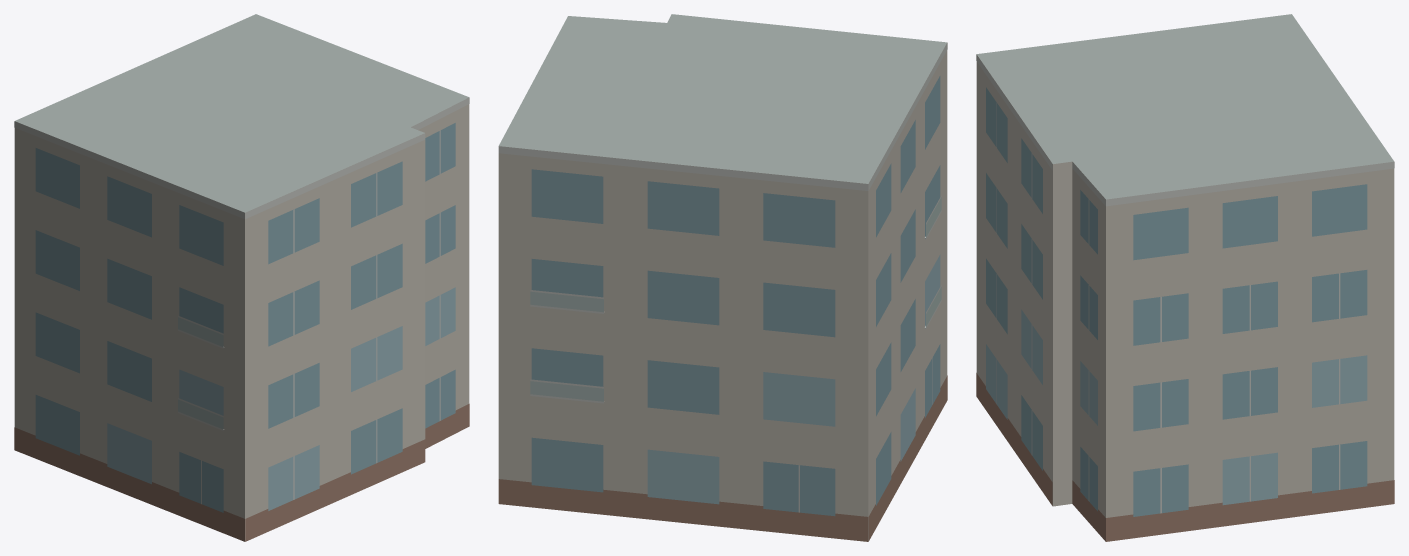
The model's file is survey-upis-33040248.glb.
3 views of the same model, side by side, from view 1: azimuth 30°, elevation 25°; view 2: azimuth 150°, elevation 25°; view 3: azimuth 270°, elevation 25° (orthographic). The views are drawn at different scales.
Parts seen in each view (by area): view 1: survey-upis-33040248.tmp; view 2: survey-upis-33040248.tmp; view 3: survey-upis-33040248.tmp.
Part boxes in pixels (x1=…): survey-upis-33040248.tmp: x1=14, y1=14, x2=469, y2=541; survey-upis-33040248.tmp: x1=498, y1=14, x2=947, y2=541; survey-upis-33040248.tmp: x1=976, y1=14, x2=1394, y2=541.
Size of the model in its own units: 14.19 by 12.2 by 13.51.
